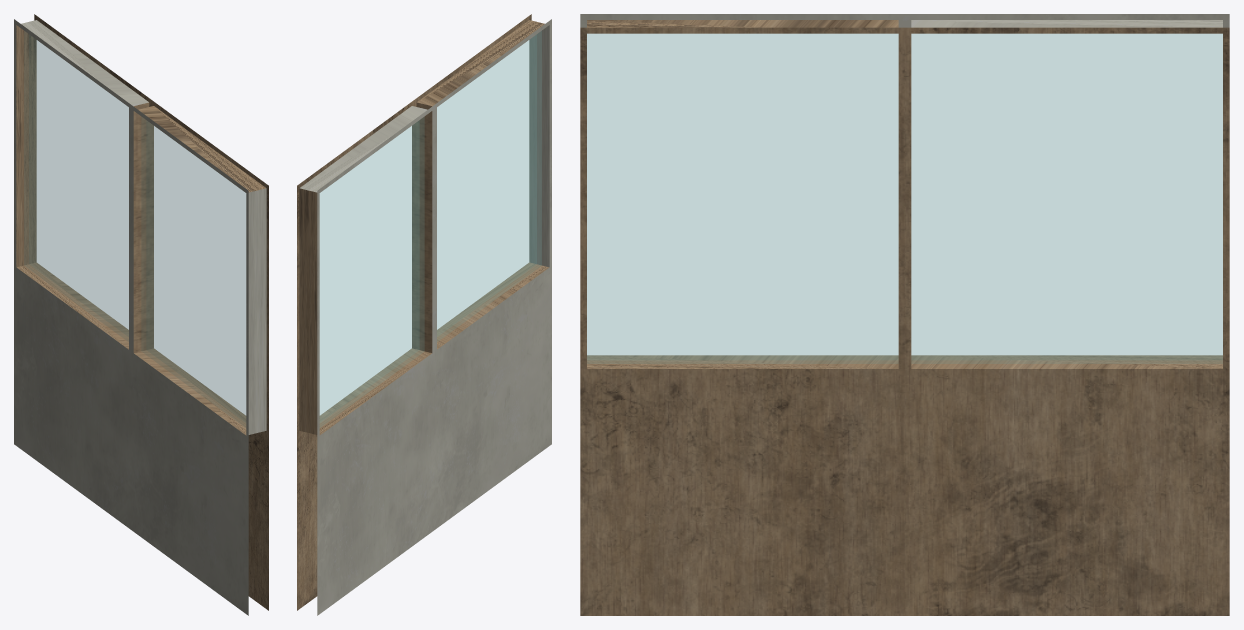
File: Wall_Store_Window_Half.fbx
3 views of the same model, side by side, from view 1: azimuth 30°, elevation 25°; view 2: azimuth 150°, elevation 25°; view 3: azimuth 270°, elevation 25° (orthographic). The views are drawn at different scales.
Visible parts, largest first — view 1: Cube.003; view 2: Cube.003; view 3: Cube.003.
Boxes of the visible parts, x1,y1,x2,y2 form: Cube.003: [14, 14, 268, 615]; Cube.003: [297, 14, 551, 615]; Cube.003: [580, 14, 1229, 615].
Bounding box in the file's own units: 10 × 200 × 200.
